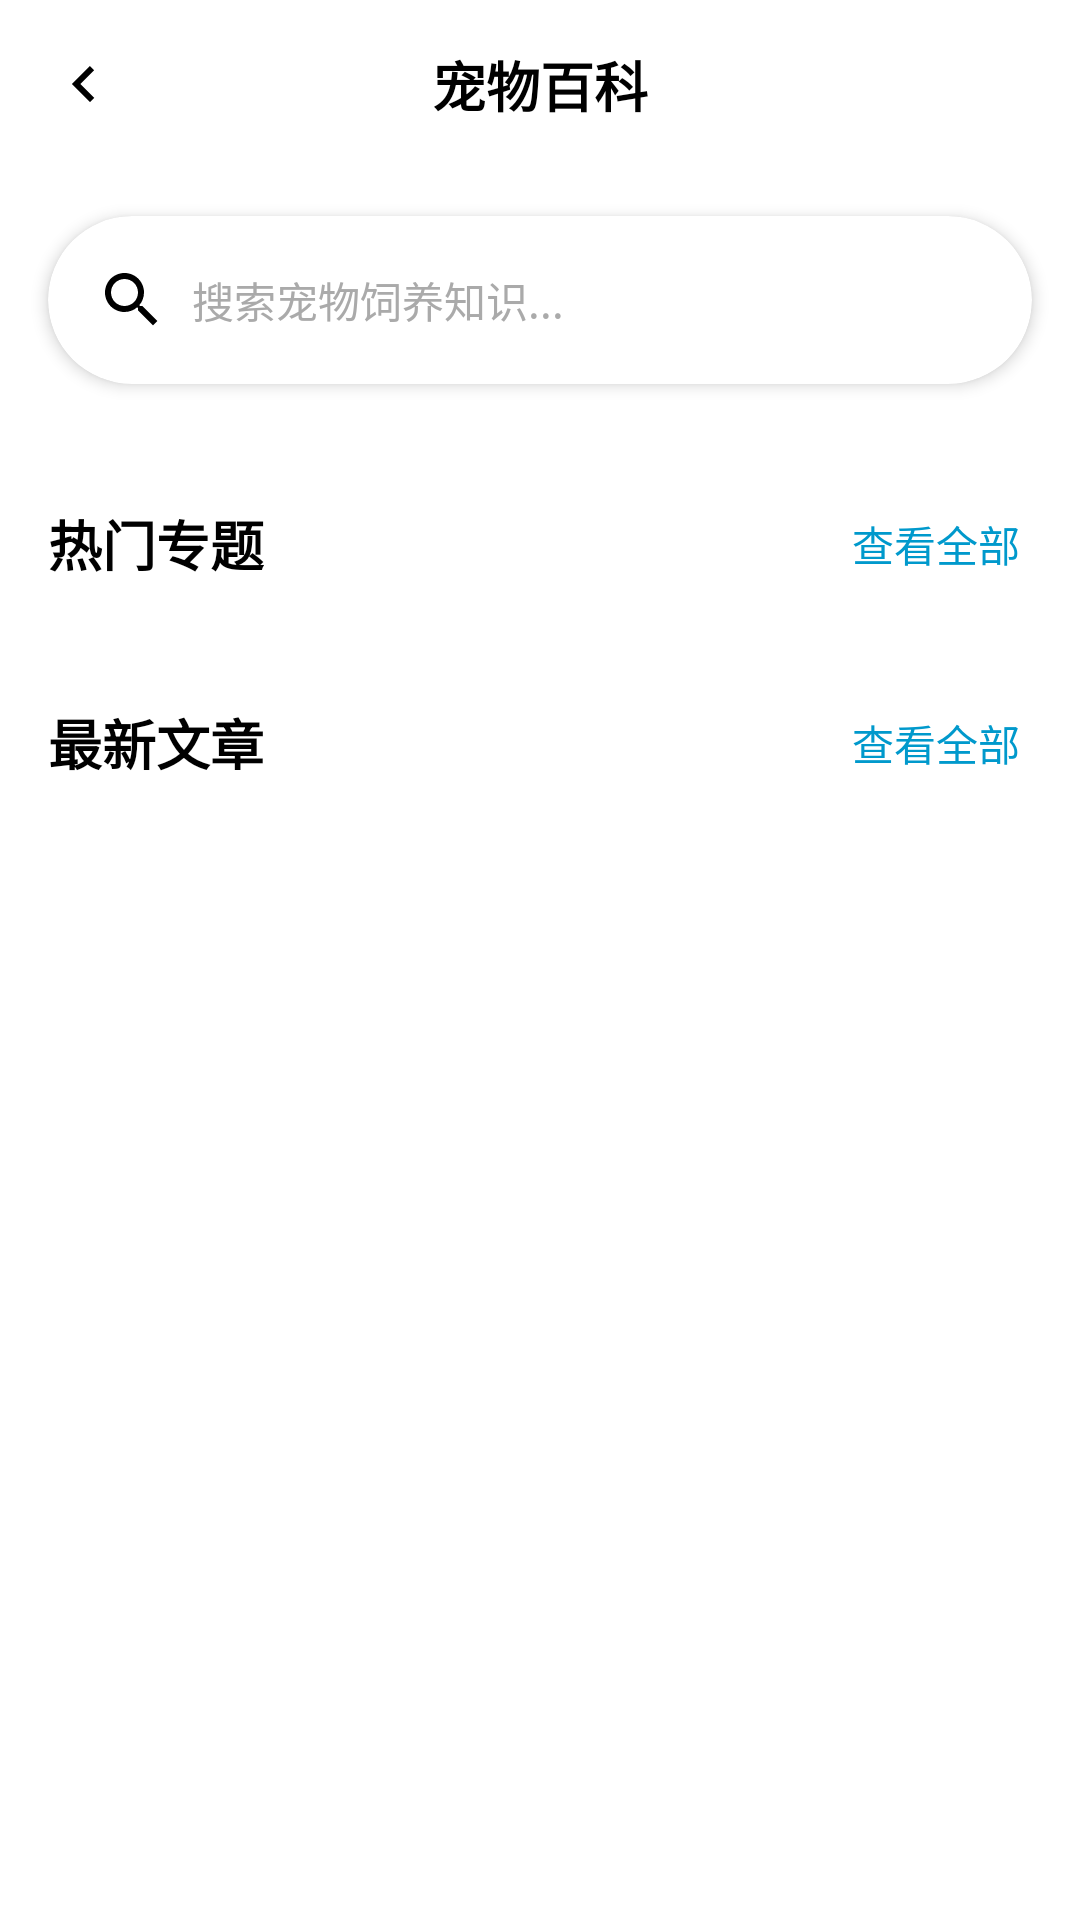

Screen size 1080px x 1920px. Icon name, then its box in pixels as BBox(x1, y1, x2, y2):
search: BBox(105, 273, 157, 325)
